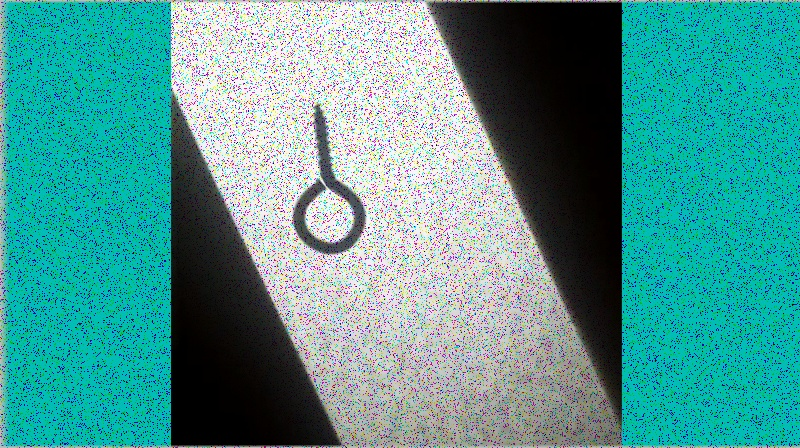O001: (289, 97, 367, 260)
